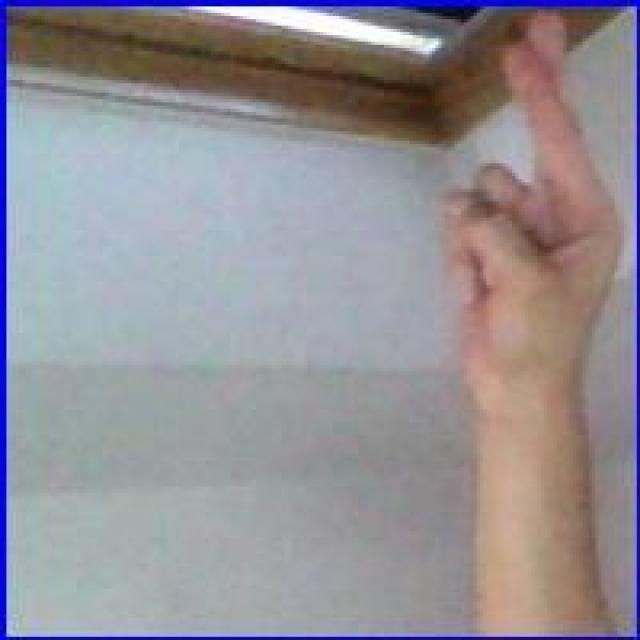R: (427, 10, 632, 416)
